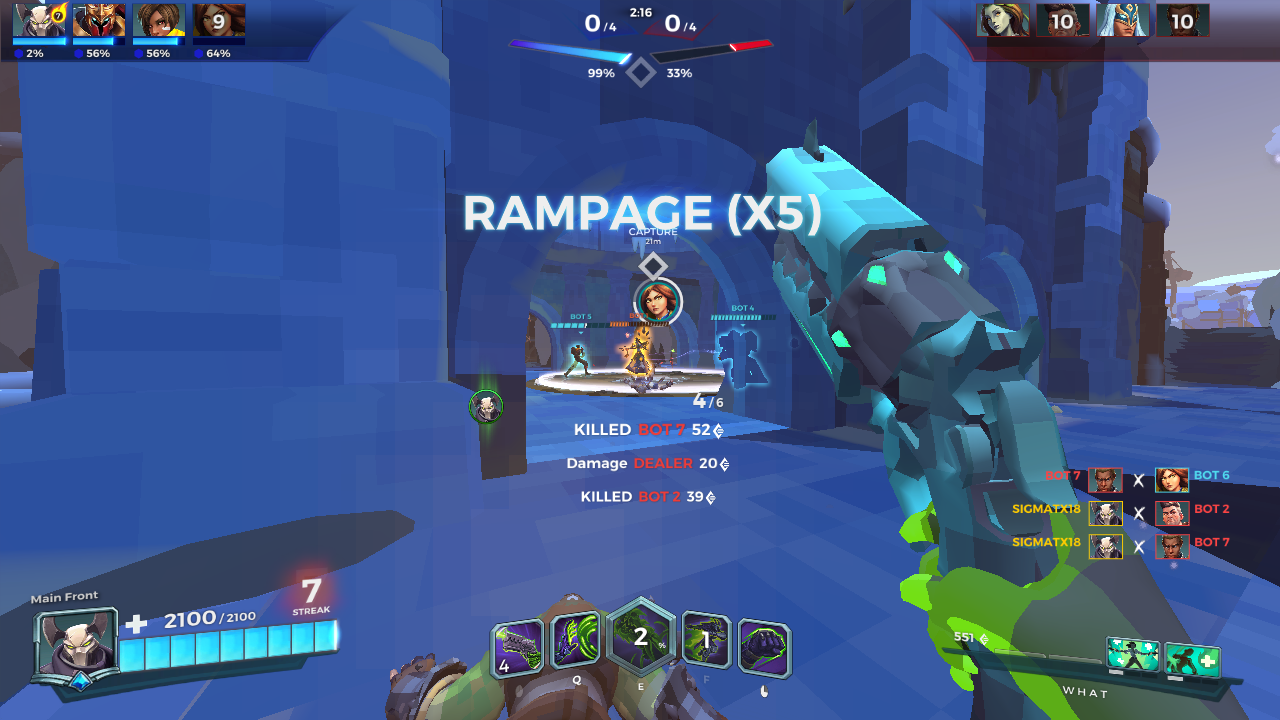model: (619, 333, 653, 377)
